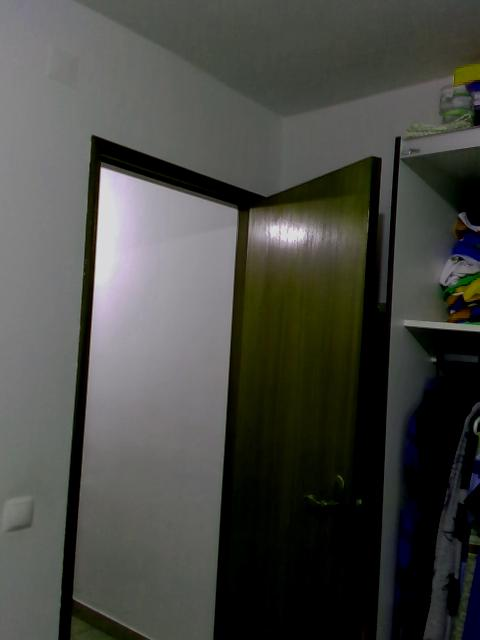open_door: (57, 131, 270, 639)
